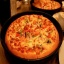pizza: (5, 14, 60, 55), (32, 1, 62, 11)
